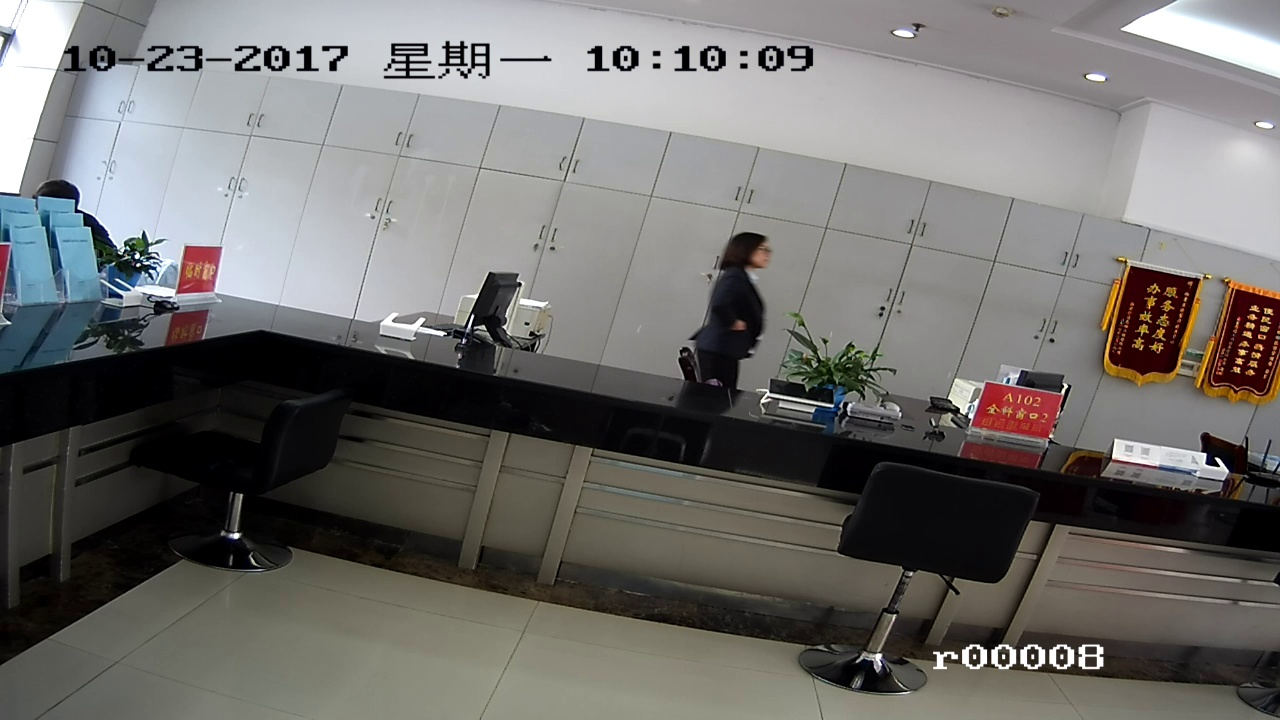billboard: (1203, 275, 1280, 409), (1121, 266, 1176, 378), (984, 383, 1053, 443)
chair: (810, 456, 1030, 698), (149, 400, 364, 590)
monitor: (476, 265, 530, 341)
person: (700, 233, 767, 392)
pot: (800, 335, 878, 416), (115, 232, 159, 291)
